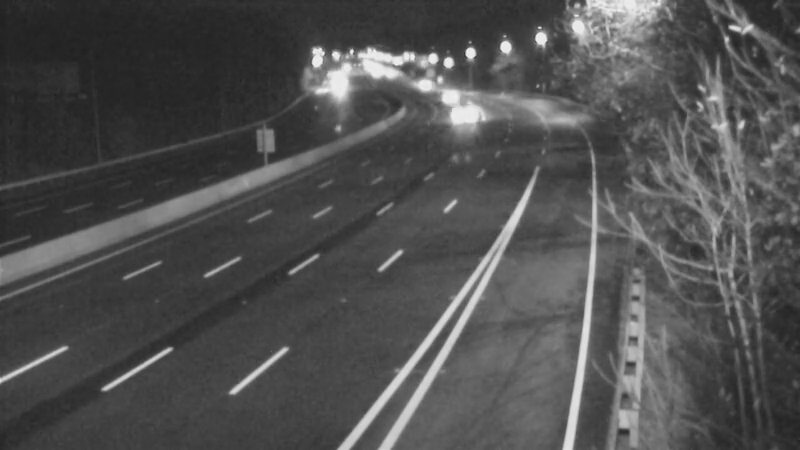vehicle: (361, 49, 411, 99), (394, 61, 444, 111), (427, 70, 477, 120), (434, 93, 484, 143), (310, 59, 360, 109)
